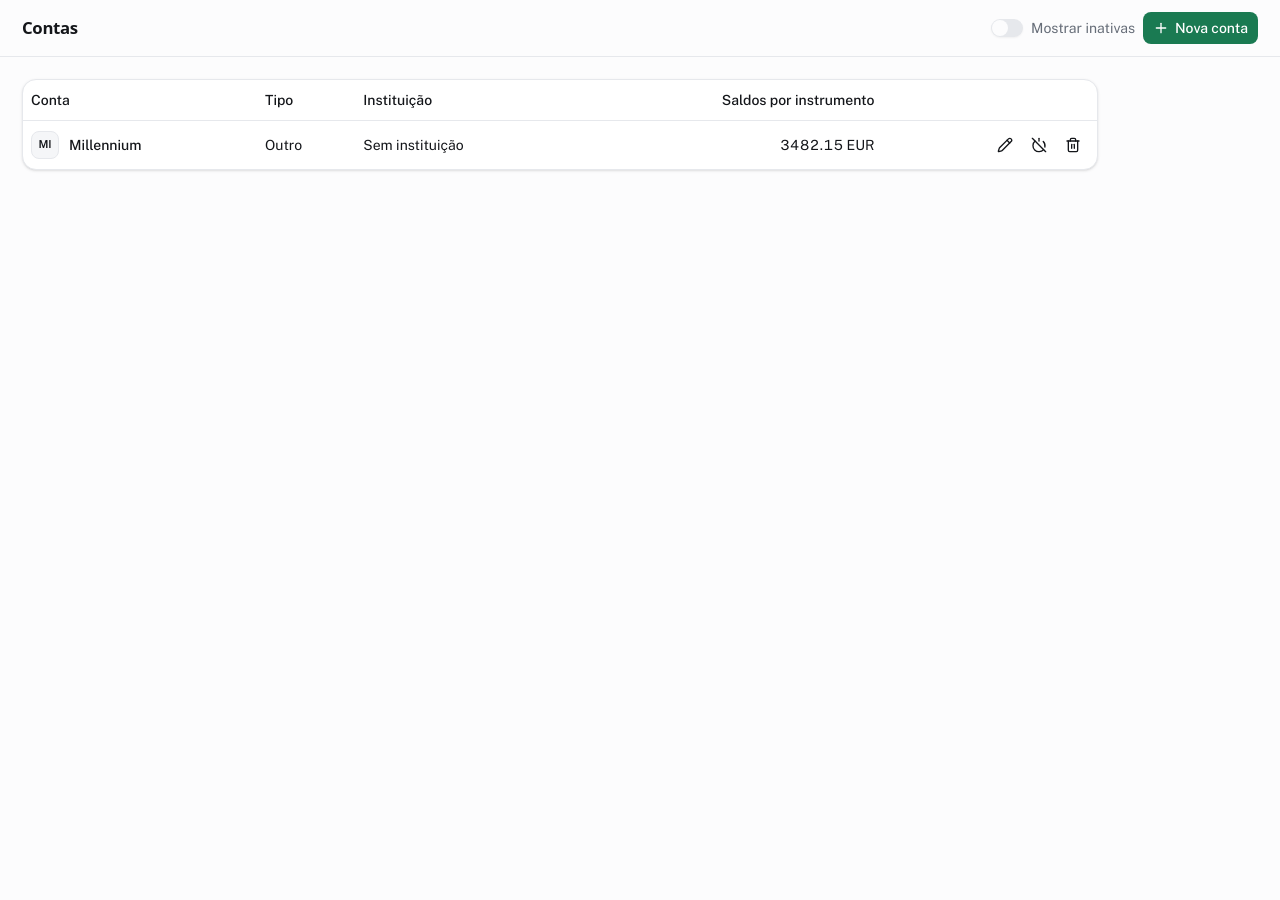
Test: AccountsPage › shows the API error and keeps the account active when deactivation is blocked
expect the text "Millennium" is shown: met, box [69,134,142,154]
Click the button named "Desativar".
click(1039, 144)  # box [1023,128,1055,160]
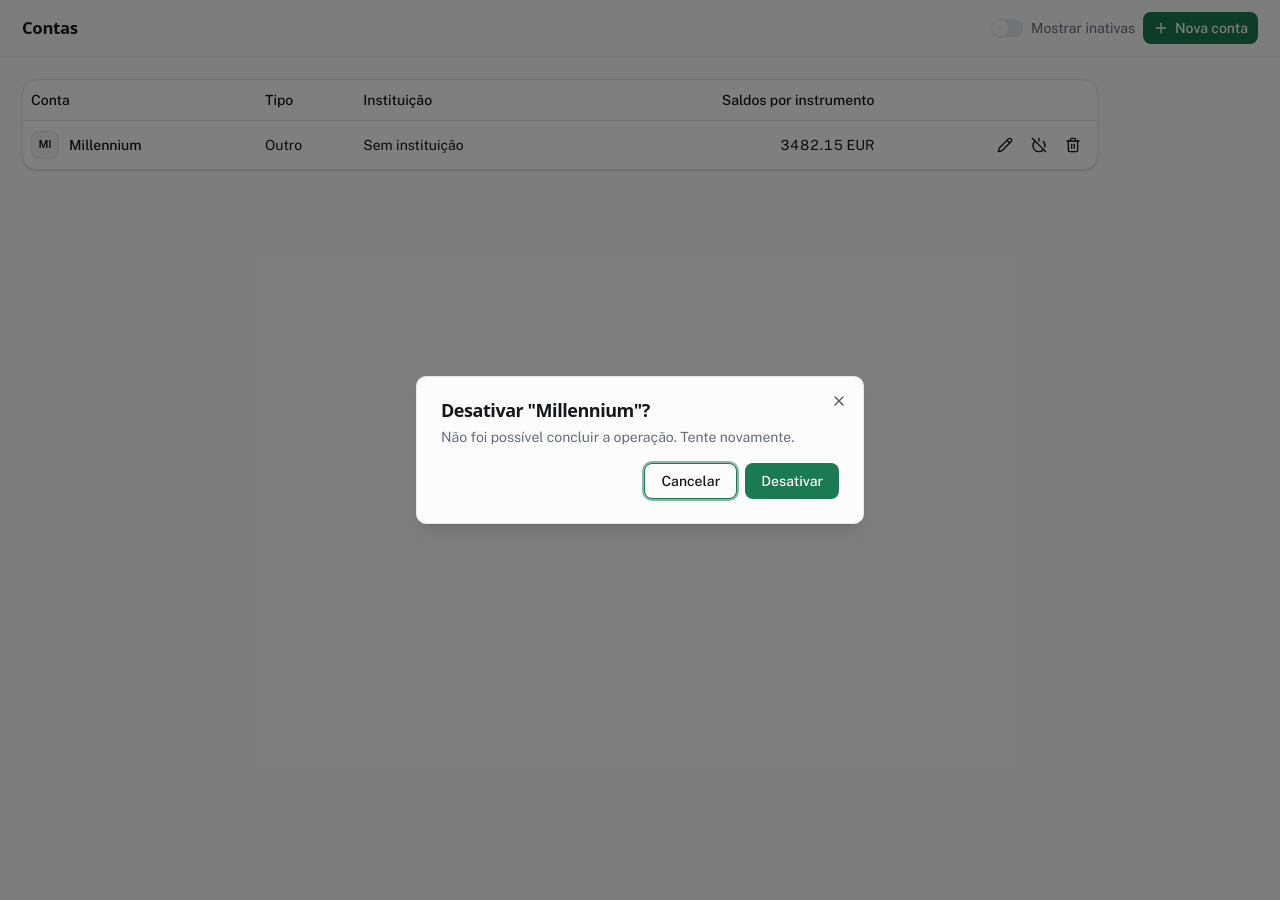
Click the button "Desativar".
click(792, 481)  # box [745,463,839,499]
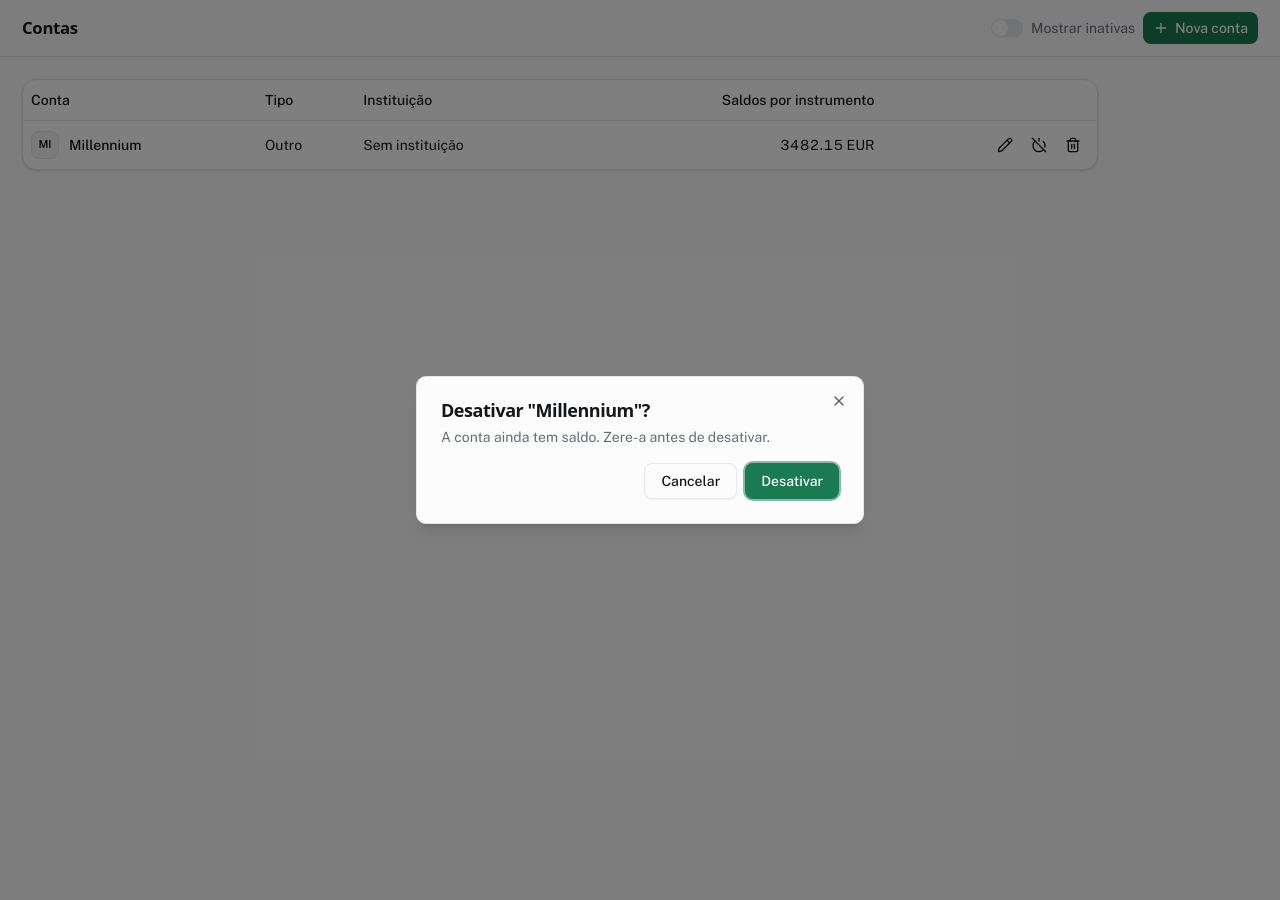
expect the text "Millennium" is shown: met, box [69,134,142,154]
expect the text "A conta ainda tem saldo. Zere-a antes de desativar." is shown: met, box [441,429,770,445]
